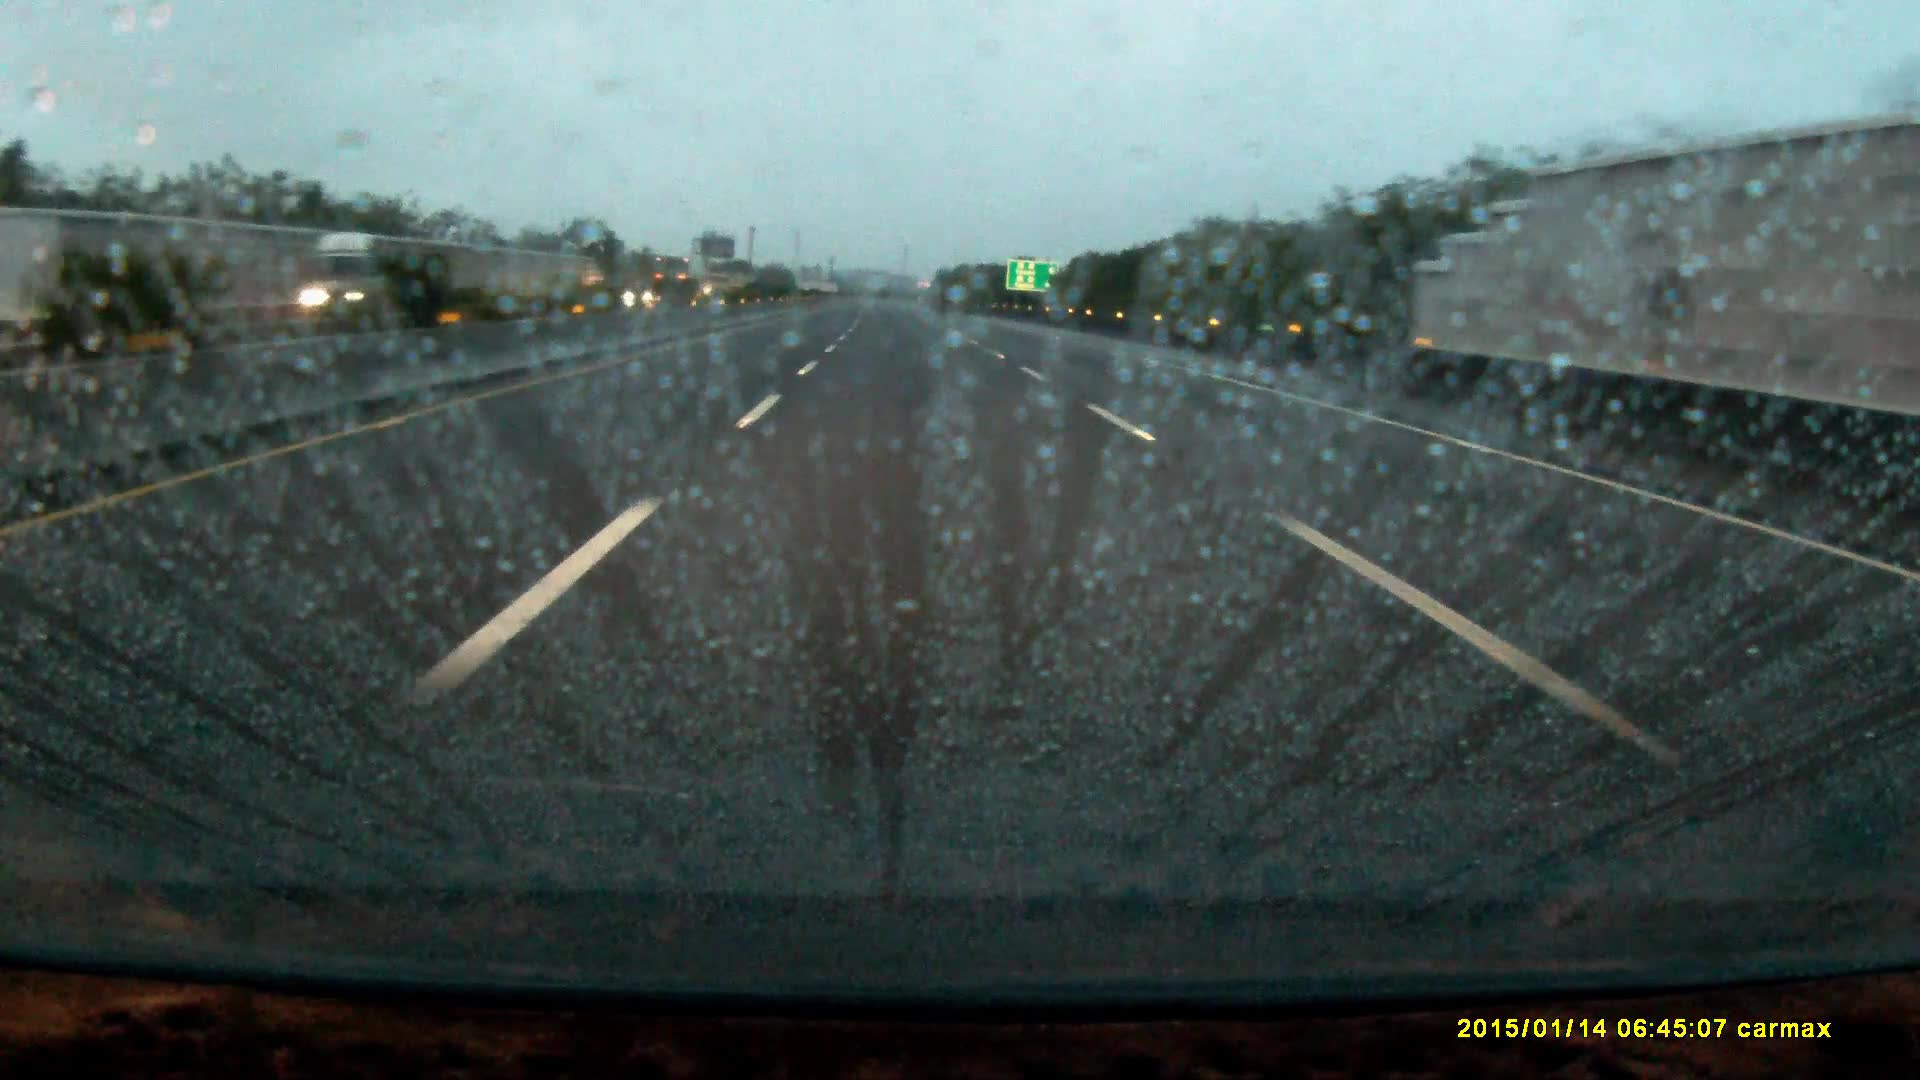vehicle: (299, 233, 425, 338), (651, 258, 707, 314)
